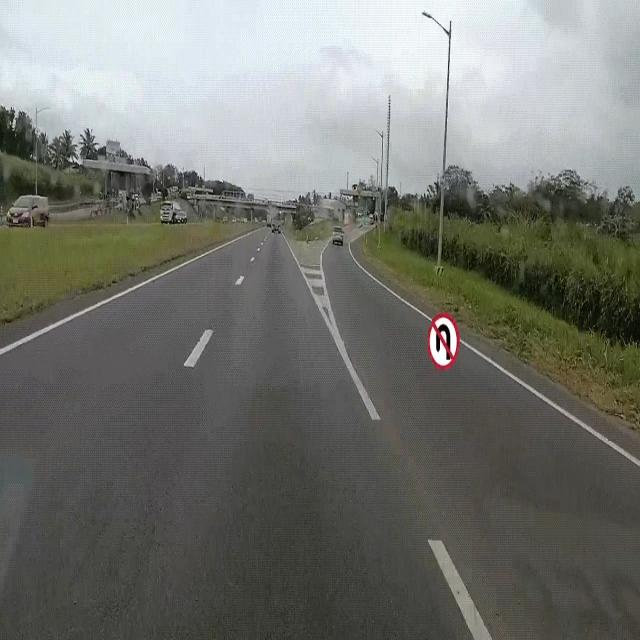Demi-Tour-Interdit: (426, 305, 462, 375)
